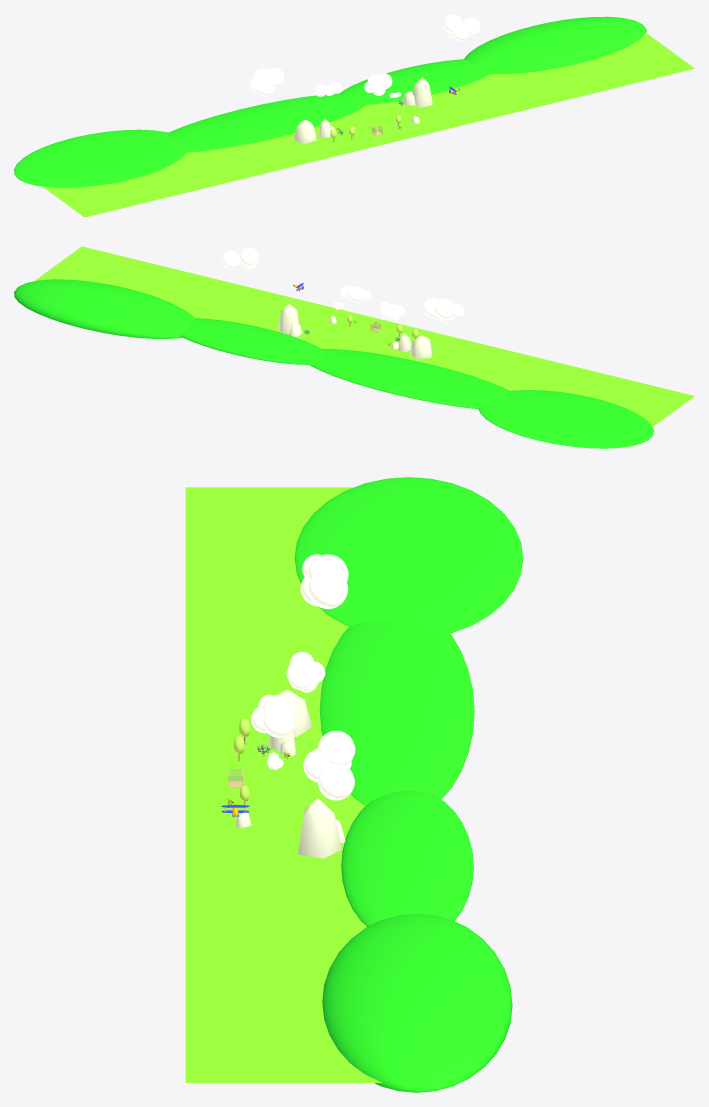
File: game_env_test_1.gltf
The picture shows the model from 3 angles, top to bottom: view 1: azimuth 30°, elevation 25°; view 2: azimuth 150°, elevation 25°; view 3: azimuth 270°, elevation 25°; orthographic projection. The views are drawn at different scales.
Visible parts, largest first — view 1: Sphere (×4), ground, big_mountain_part (×2); view 2: Sphere (×4), ground, big_mountain_part (×2), cloud_ball; view 3: Sphere (×4), ground, cloud_ball (×3), big_mountain_part.
Part boxes in pixels (x1=…): Sphere (×4): x1=14, y1=16, x2=646, y2=187; ground: x1=43, y1=32, x2=694, y2=217; big_mountain_part (×2): x1=293, y1=77, x2=432, y2=143; Sphere (×4): x1=14, y1=279, x2=653, y2=448; ground: x1=34, y1=246, x2=694, y2=426; big_mountain_part (×2): x1=278, y1=304, x2=432, y2=358; cloud_ball: x1=435, y1=298, x2=453, y2=319; Sphere (×4): x1=294, y1=477, x2=523, y2=1092; ground: x1=185, y1=487, x2=382, y2=1082; cloud_ball (×3): x1=308, y1=569, x2=355, y2=800; big_mountain_part: x1=298, y1=798, x2=341, y2=858.
Bounding box in the file's own units: 514 × 60.51 × 120.
